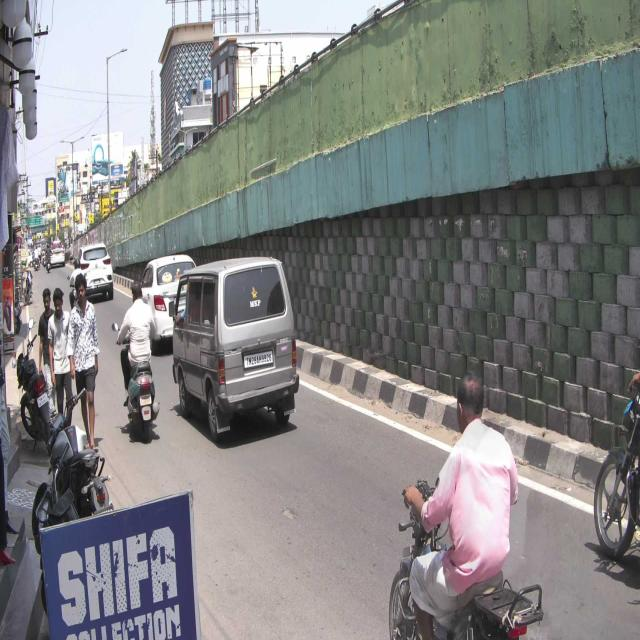single_rider: (389, 365, 544, 640)
